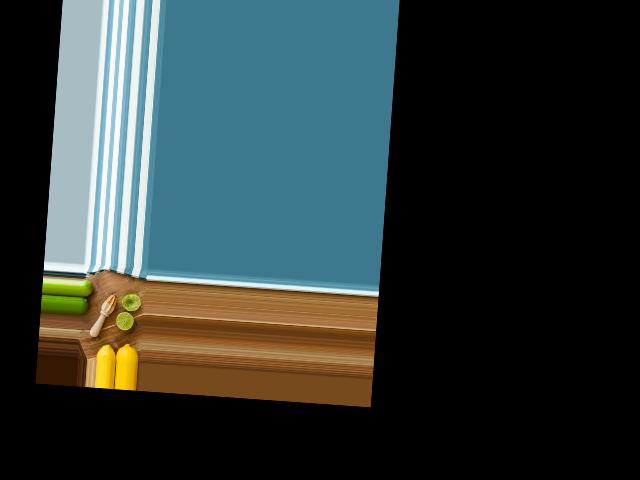lemon: (113, 339, 141, 362)
